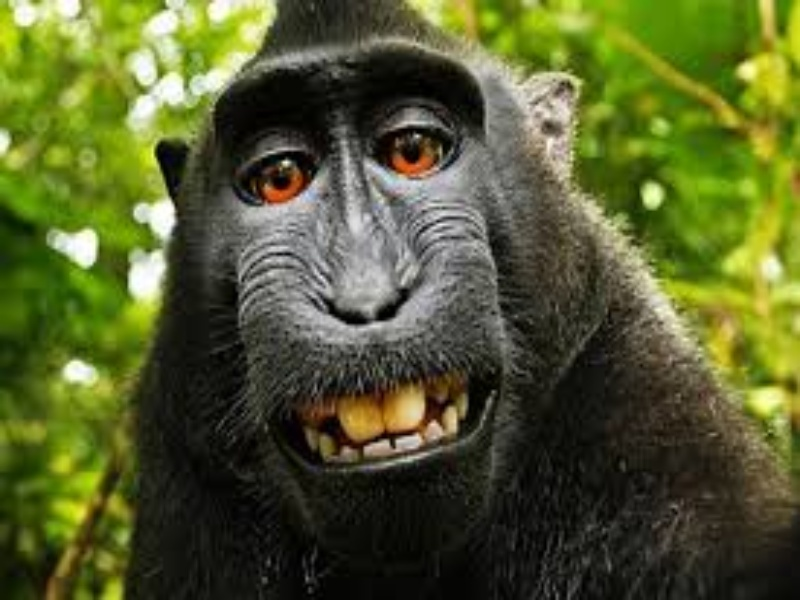monkey: (71, 8, 792, 600)
